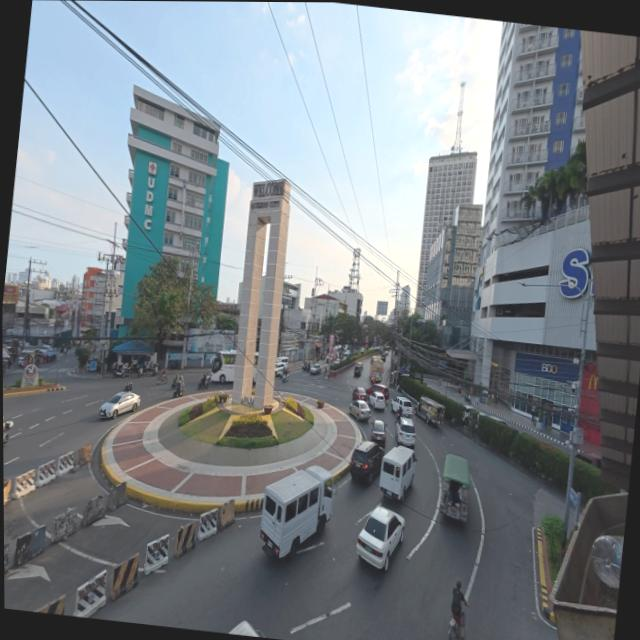car: (355, 504, 409, 577), (347, 435, 383, 486), (98, 389, 143, 425), (346, 397, 372, 422), (370, 419, 388, 439)
